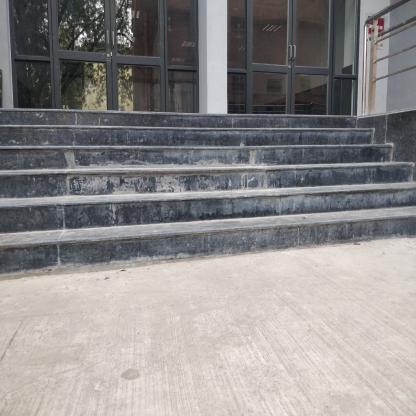stairs: (6, 109, 364, 269)
